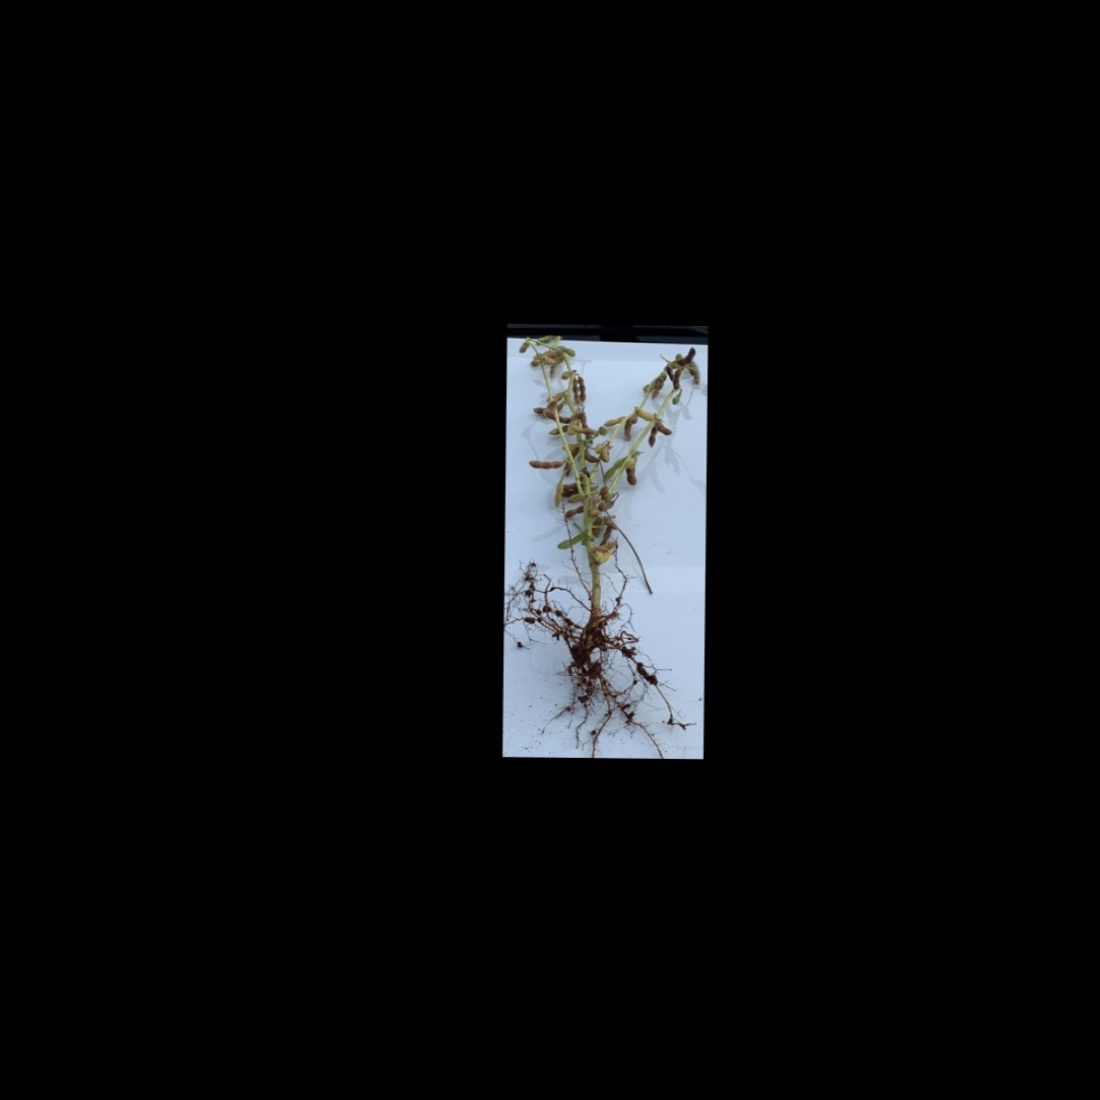pod: (554, 529, 589, 551), (525, 456, 570, 472), (597, 456, 626, 482), (650, 417, 677, 436), (561, 503, 586, 523), (575, 373, 588, 404), (601, 414, 628, 429), (531, 333, 557, 347)
soy: (508, 328, 703, 751)
